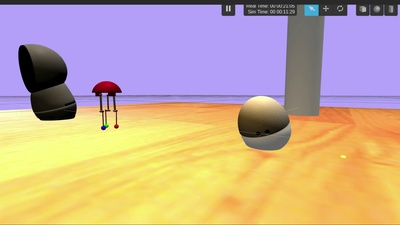mira_robot: (238, 95, 292, 151)
